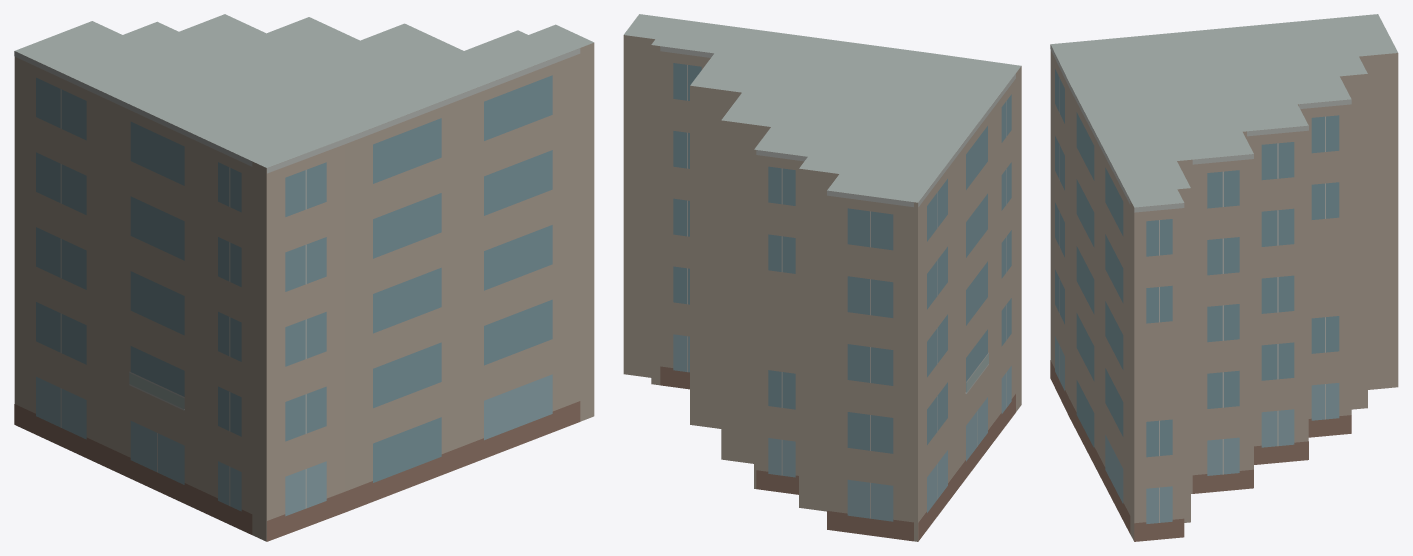
Rendered from survey-upis-32753015.glb.
3 renders of one model, left to right at view 1: azimuth 30°, elevation 25°; view 2: azimuth 150°, elevation 25°; view 3: azimuth 270°, elevation 25°, orthographic. The views are drawn at different scales.
Visible parts, largest first — view 1: survey-upis-32753015.tmp; view 2: survey-upis-32753015.tmp; view 3: survey-upis-32753015.tmp.
Boxes of the visible parts, x1,y1,x2,y2 form: survey-upis-32753015.tmp: (14,14,594,541); survey-upis-32753015.tmp: (623,14,1021,541); survey-upis-32753015.tmp: (1050,14,1398,541).
Bounding box in the file's own units: 20.25 × 16.3 × 15.38.
